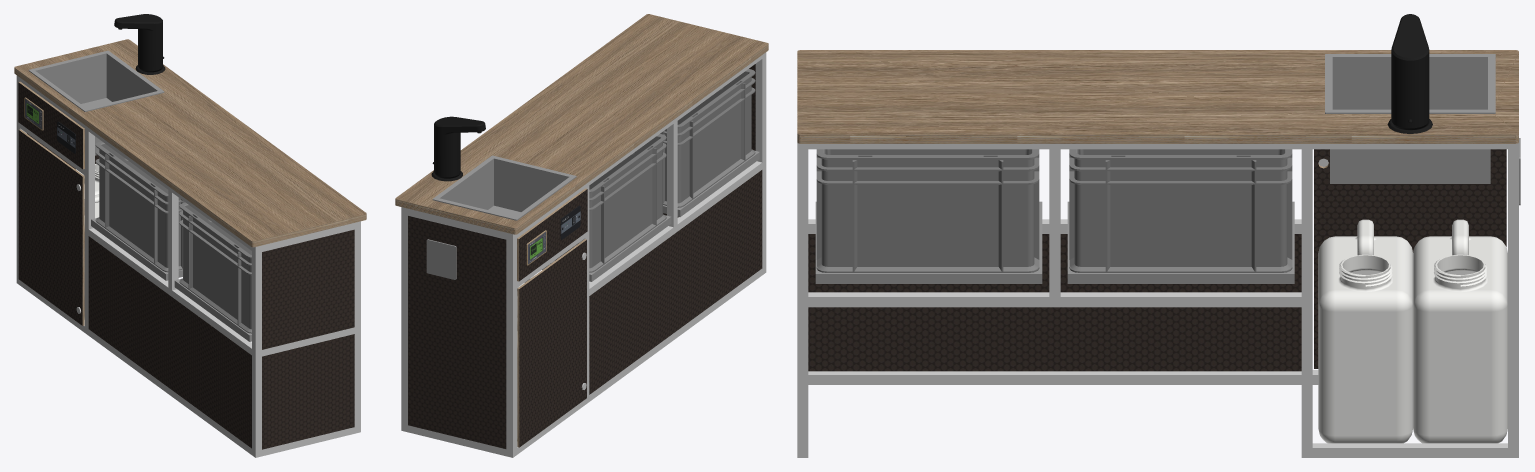
Rendered from aluminum-side-cabinet-hexa.glb.
The picture shows the model from 3 angles, left to right: view 1: azimuth 30°, elevation 25°; view 2: azimuth 150°, elevation 25°; view 3: azimuth 270°, elevation 25°; orthographic projection. The views are drawn at different scales.
Parts seen in each view (by area): view 1: Oak top1294.8x360x18 - compact sink and centered pump_0, ボディ52_1, side_0, Tank door346x447x6.5 - reveal2mm_1, ボディ53_1, ボディ54_1, h235_0, h235_0.001, Owner-approved compact sink305.9x249.85x145.35_0, Upper control fascia - monitor94x57 remote73x43_1, ボディ1 - existing pump_0, ボディ48_0 (+2 smaller); view 2: Oak top1294.8x360x18 - compact sink and centered pump_0, ボディ49_1, ボディ52_1, side_0, Tank door346x447x6.5 - reveal2mm_1, h235_0.001, h235_0, Owner-approved compact sink305.9x249.85x145.35_0, Upper control fascia - monitor94x57 remote73x43_1, ボディ1 - existing pump_0, Kitchen shower87x95 - left side panel_0, ボディ39_0 (+2 smaller); view 3: Oak top1294.8x360x18 - compact sink and centered pump_0, ボディ52_1, side_0, h235_0.001, h235_0, ボディ1_0, ボディ1_0.001, Owner-approved compact sink305.9x249.85x145.35_0, Tank door346x447x6.5 - reveal2mm_1, ボディ1 - existing pump_0, ボディ39_0, ボディ48_0.
Boxes of the visible parts, left/top/right/bottom form: Oak top1294.8x360x18 - compact sink and centered pump_0: left=14, top=39, right=366, bottom=247; ボディ52_1: left=88, top=236, right=251, bottom=448; side_0: left=16, top=75, right=360, bottom=457; Tank door346x447x6.5 - reveal2mm_1: left=18, top=130, right=82, bottom=325; ボディ53_1: left=262, top=229, right=354, bottom=349; ボディ54_1: left=262, top=334, right=354, bottom=449; h235_0: left=95, top=141, right=184, bottom=272; h235_0.001: left=179, top=202, right=251, bottom=333; Owner-approved compact sink305.9x249.85x145.35_0: left=28, top=50, right=164, bottom=155; Upper control fascia - monitor94x57 remote73x43_1: left=18, top=82, right=82, bottom=169; ボディ1 - existing pump_0: left=114, top=14, right=164, bottom=72; ボディ48_0: left=91, top=218, right=182, bottom=280; Oak top1294.8x360x18 - compact sink and centered pump_0: left=395, top=14, right=768, bottom=234; ボディ49_1: left=408, top=216, right=506, bottom=448; ボディ52_1: left=589, top=170, right=762, bottom=394; side_0: left=401, top=52, right=766, bottom=457; Tank door346x447x6.5 - reveal2mm_1: left=519, top=240, right=586, bottom=447; h235_0.001: left=660, top=69, right=755, bottom=207; h235_0: left=550, top=134, right=666, bottom=272; Owner-approved compact sink305.9x249.85x145.35_0: left=432, top=155, right=576, bottom=220; Upper control fascia - monitor94x57 remote73x43_1: left=519, top=189, right=587, bottom=281; ボディ1 - existing pump_0: left=432, top=116, right=485, bottom=178; Kitchen shower87x95 - left side panel_0: left=426, top=239, right=456, bottom=279; ボディ39_0: left=663, top=151, right=759, bottom=216; Oak top1294.8x360x18 - compact sink and centered pump_0: left=797, top=50, right=1518, bottom=143; ボディ52_1: left=808, top=234, right=1301, bottom=371; side_0: left=797, top=143, right=1518, bottom=457; h235_0.001: left=816, top=149, right=1039, bottom=272; h235_0: left=1069, top=149, right=1292, bottom=272; ボディ1_0: left=1413, top=219, right=1507, bottom=443; ボディ1_0.001: left=1318, top=219, right=1412, bottom=443; Owner-approved compact sink305.9x249.85x145.35_0: left=1325, top=54, right=1495, bottom=183; Tank door346x447x6.5 - reveal2mm_1: left=1314, top=149, right=1506, bottom=368; ボディ1 - existing pump_0: left=1391, top=14, right=1429, bottom=129; ボディ39_0: left=815, top=201, right=1042, bottom=283; ボディ48_0: left=1067, top=201, right=1294, bottom=283.
Bounding box in the file's own units: 0.36 × 0.8186 × 1.3.
19 materials, 4 textured.
